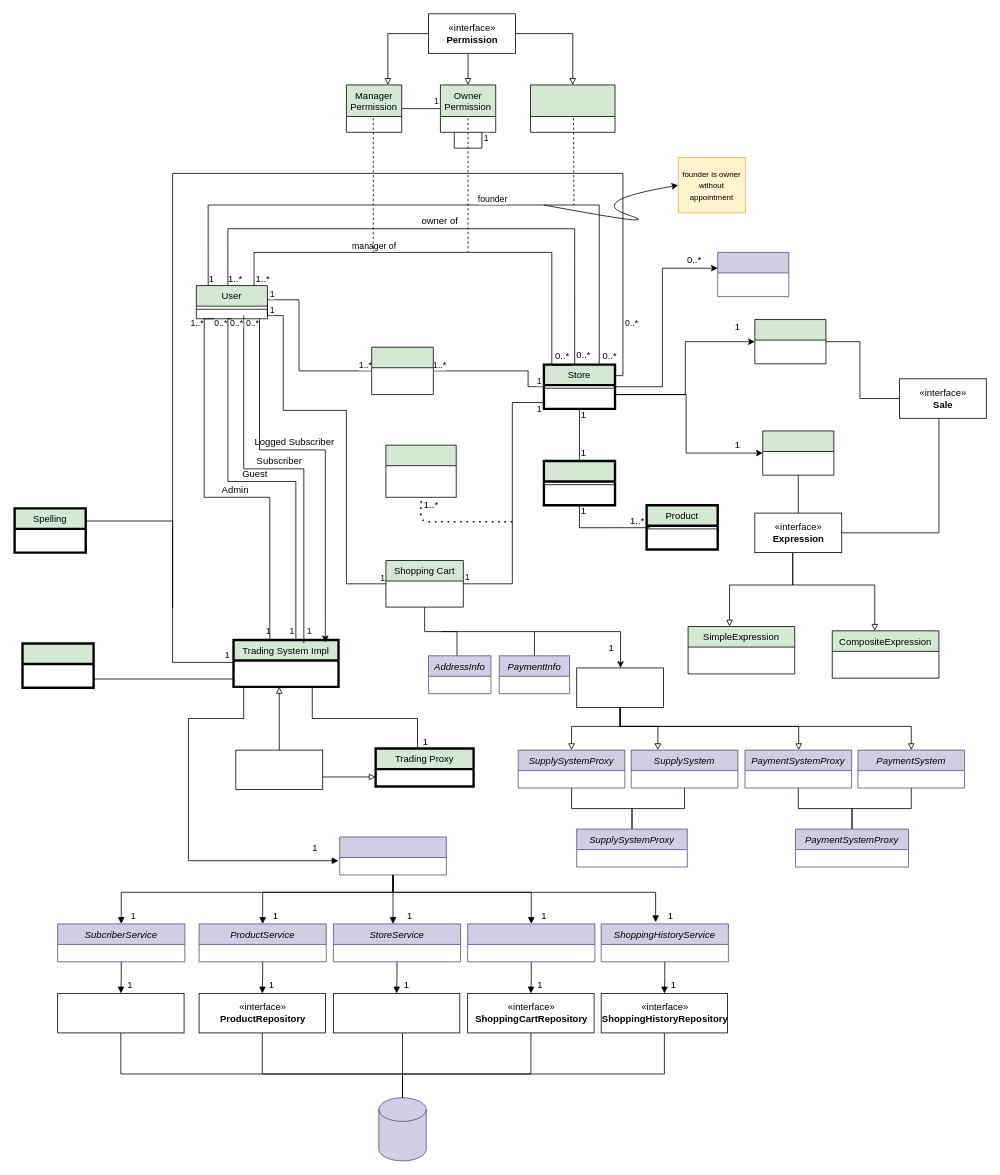
This 1000x1175 diagram has some shape labels left out. Each missing label, with the box of its shape:
Bid: (717, 252, 789, 297)
Buying Policy: (762, 430, 834, 475)
Data_Controller: (339, 836, 446, 875)
DB: (378, 1097, 426, 1161)
Discount Policy: (754, 319, 826, 364)
History: (371, 346, 433, 395)
Inventory: (542, 459, 616, 506)
Shopping Bag: (385, 444, 456, 497)
ShoppingCartService: (467, 923, 595, 962)
SystemManager Permission: (530, 84, 615, 132)
Validation: (21, 642, 94, 688)
«interface» ExternalServices: (576, 667, 664, 707)
«interface» StoreRepository: (333, 993, 460, 1033)
«interface» SubscriberRepository: (57, 993, 184, 1033)
«interface» Trading System: (235, 749, 323, 790)
